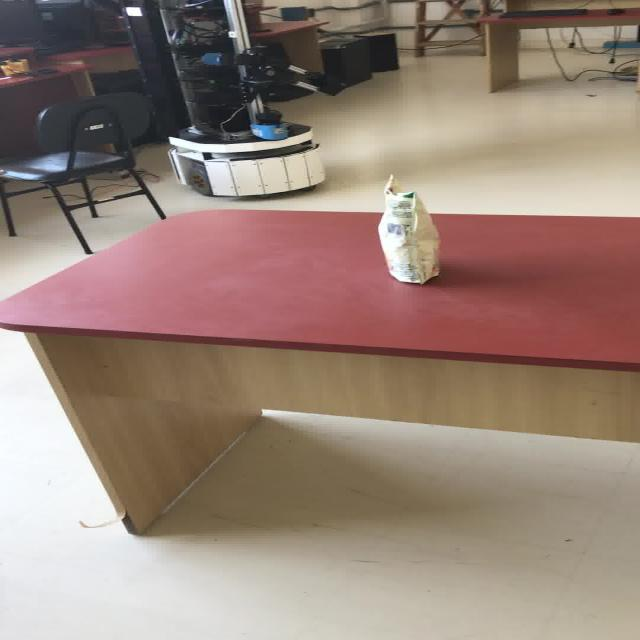corn flakes: (375, 173, 440, 284)
